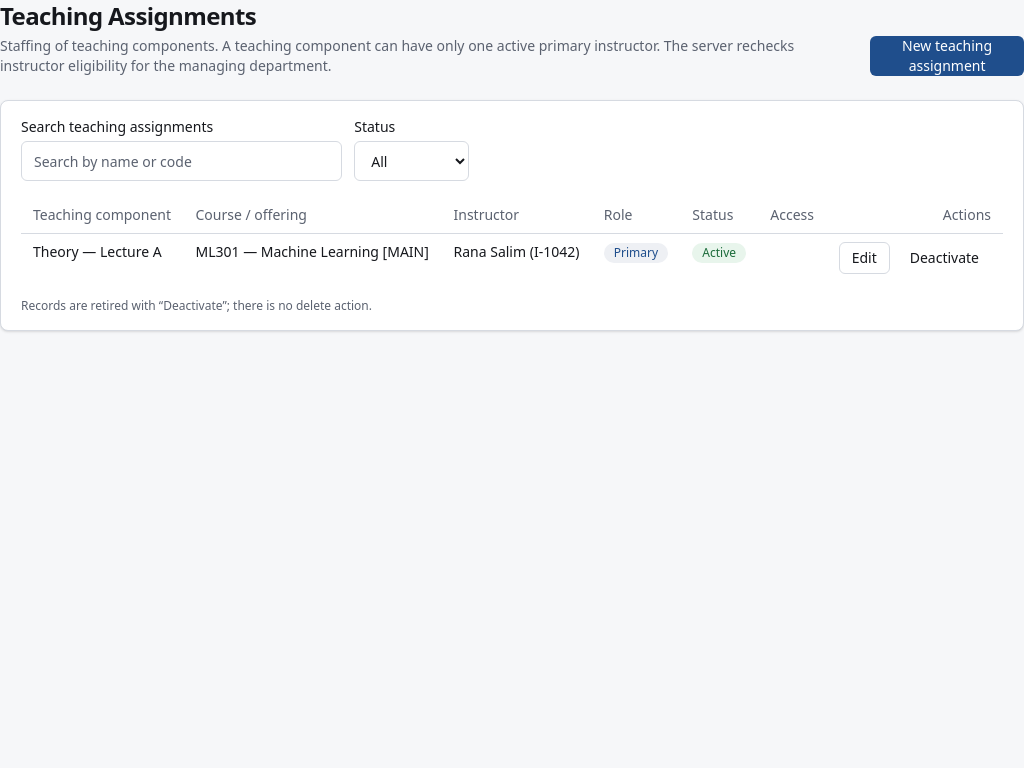
Test: teaching assignments — single primary refusal › keeps the form open and shows the backend primary-instructor error
The image size is (1024, 768).
Step 1. Click the button "New teaching assignment" → (947, 56), box top-left (870, 36), bottom-right (1023, 76)
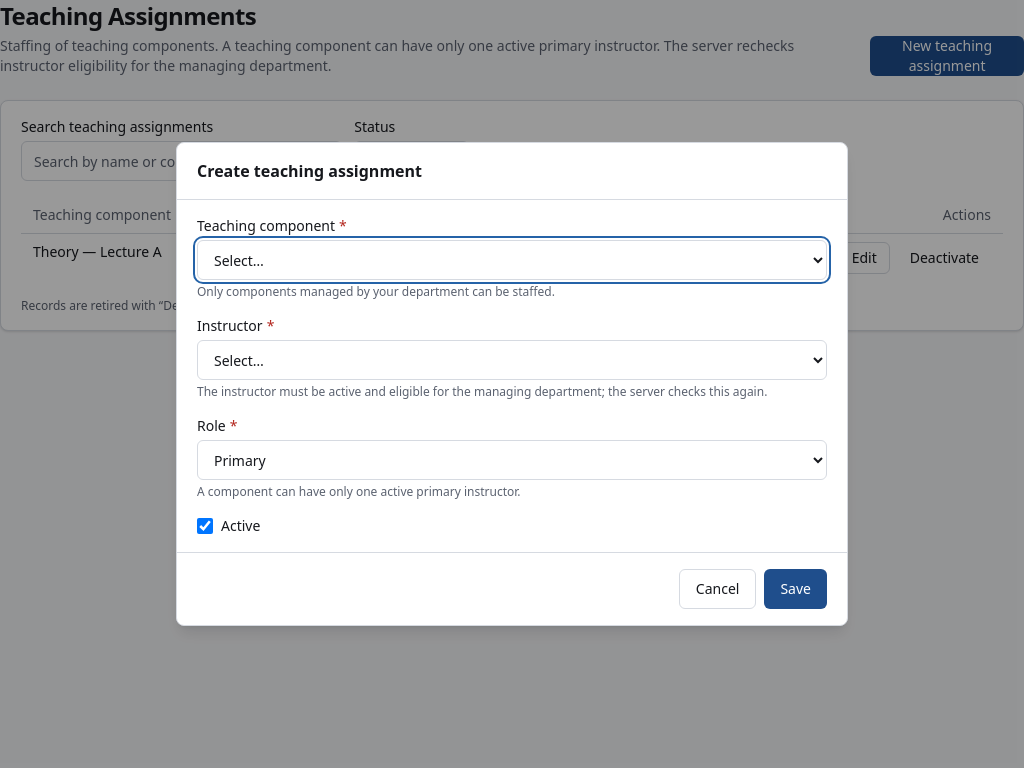
Step 2. Select "ML301 — Theory (Lecture A)" in the dropdown labelled "Teaching component*" → (512, 260), box top-left (197, 240), bottom-right (827, 280)
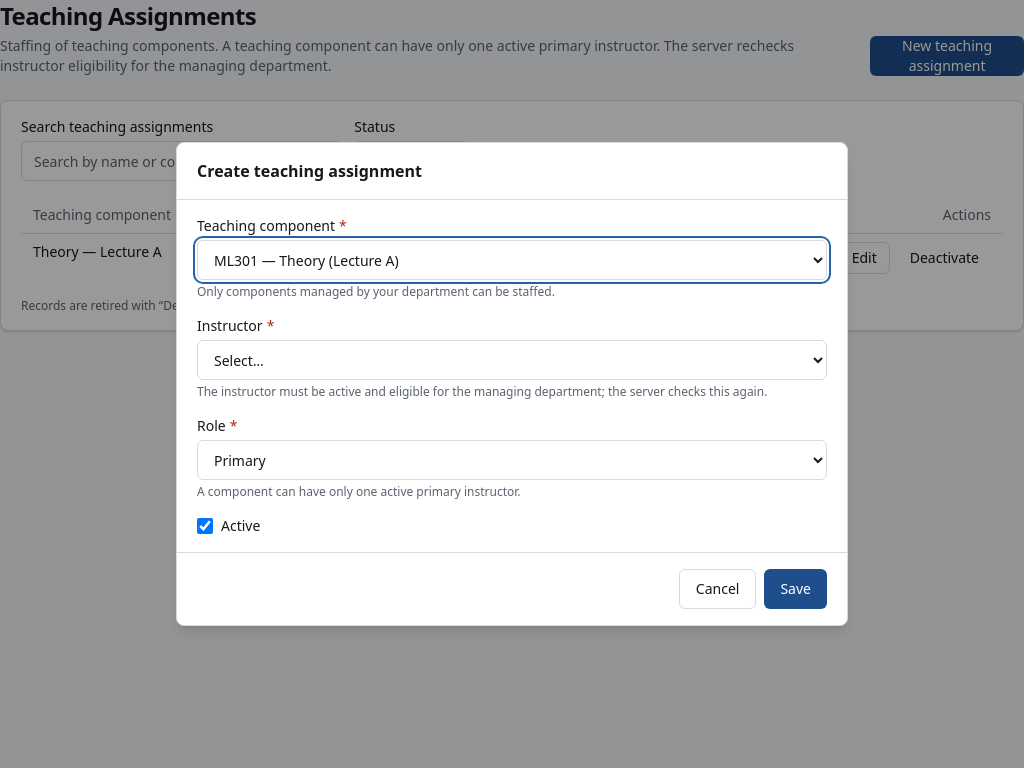
Step 3. Select "Rana Salim (I-1042) — BIOAI" in the dropdown labelled "Instructor*" → (512, 360), box top-left (197, 340), bottom-right (827, 380)
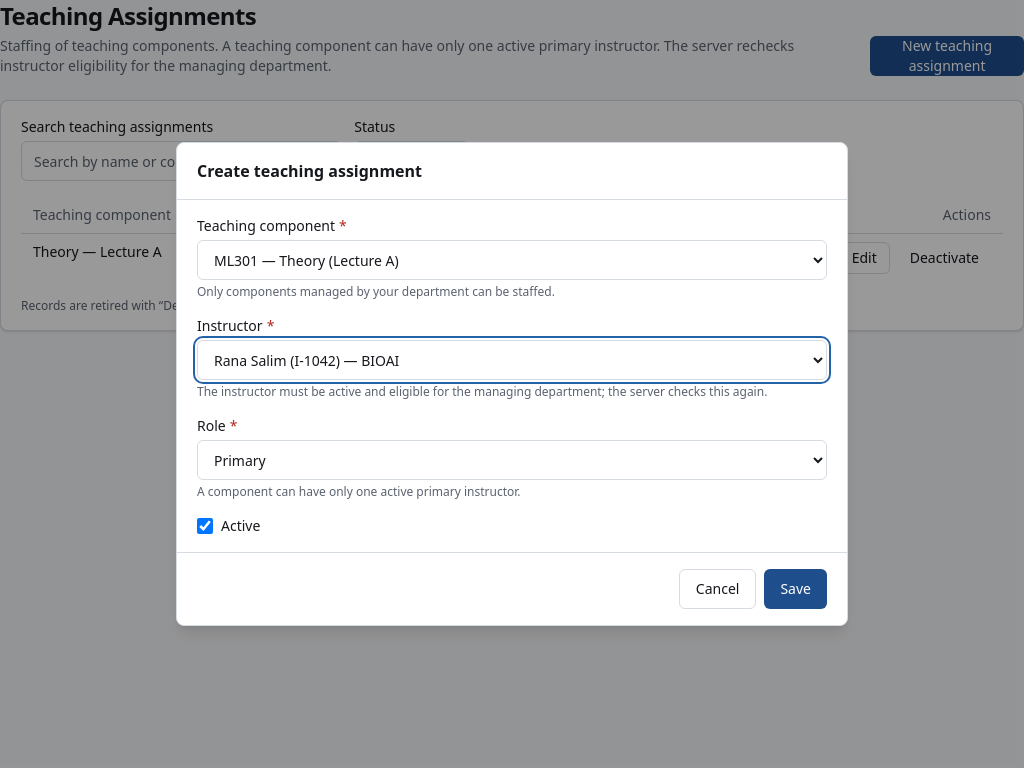
Step 4. Click the button "Save" → (796, 589), box top-left (764, 569), bottom-right (827, 609)
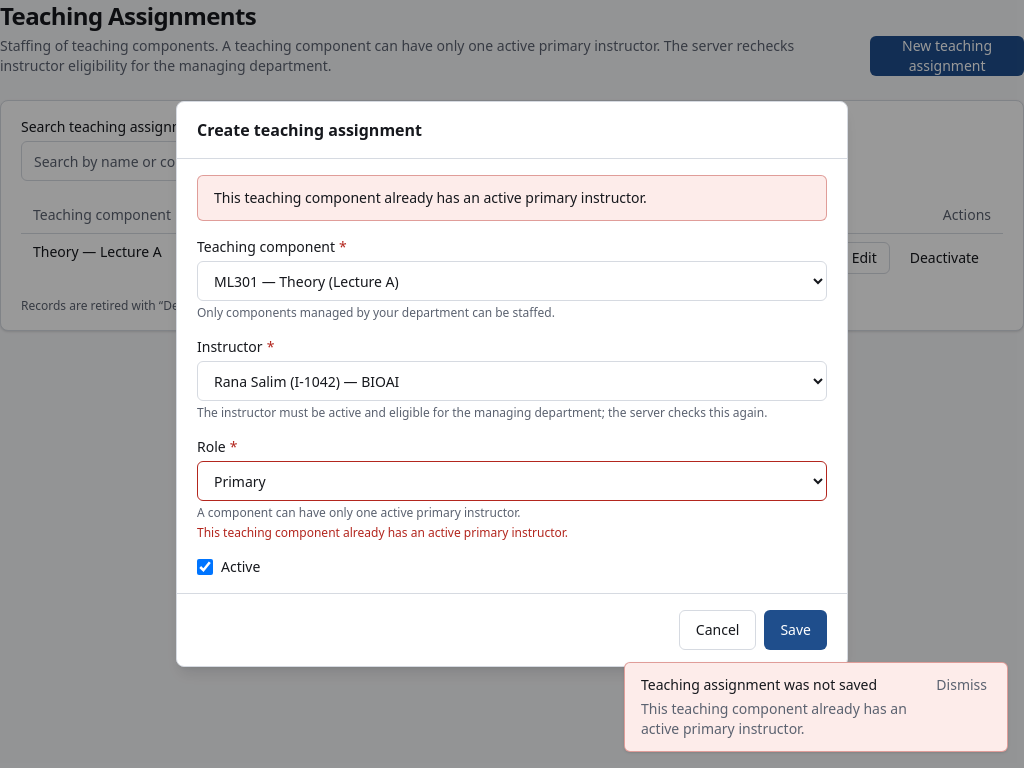
Result: the dialog "Create teaching assignment" is shown at top-left (176, 101), bottom-right (848, 667)
Result: the 1st text "This teaching component already has an active primary instructor." is shown at top-left (214, 188), bottom-right (647, 207)
